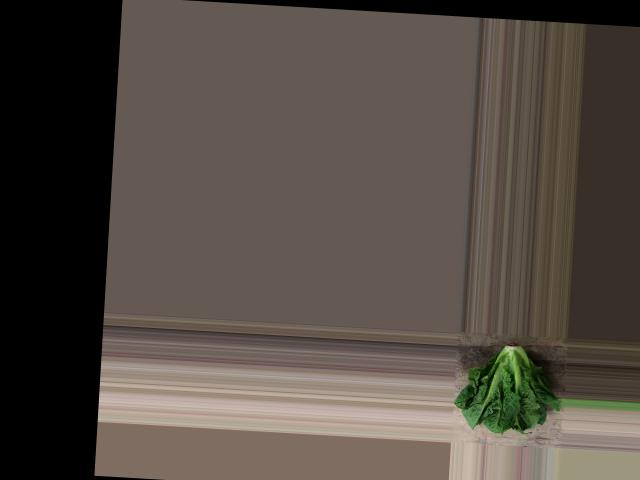lettuce: (455, 335, 564, 439)
